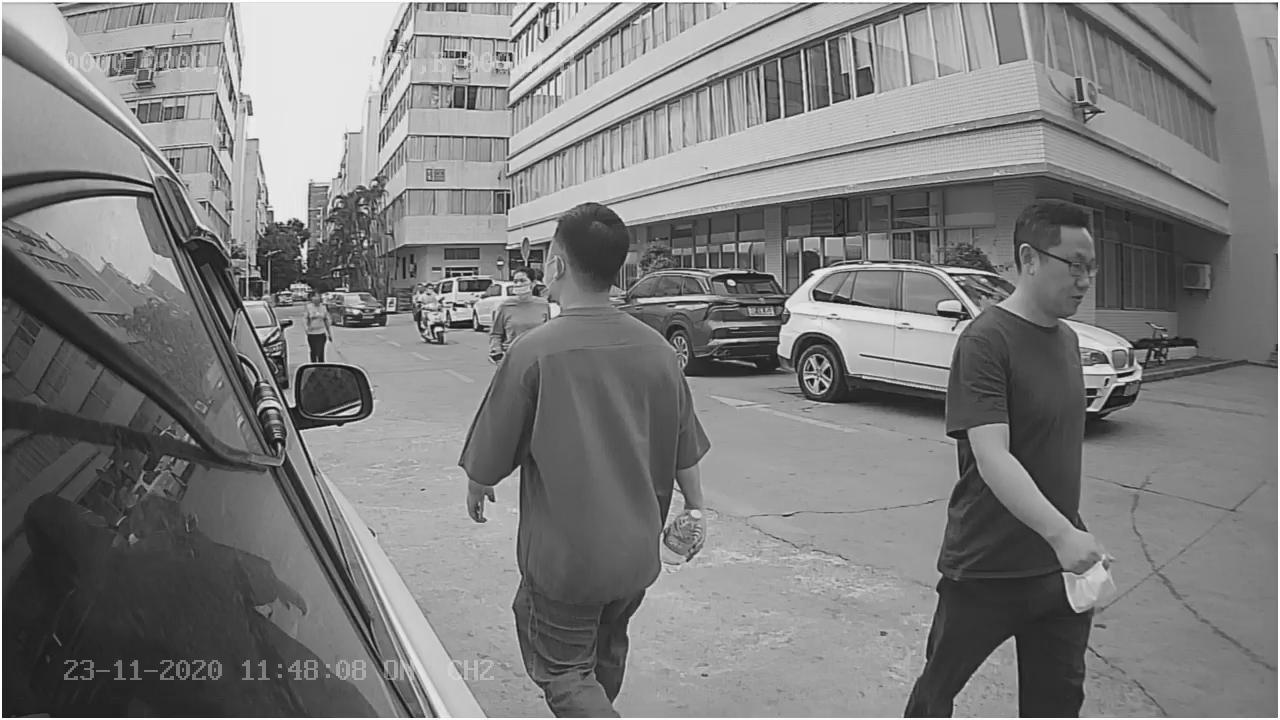person: (456, 200, 710, 584), (933, 189, 1134, 593)
